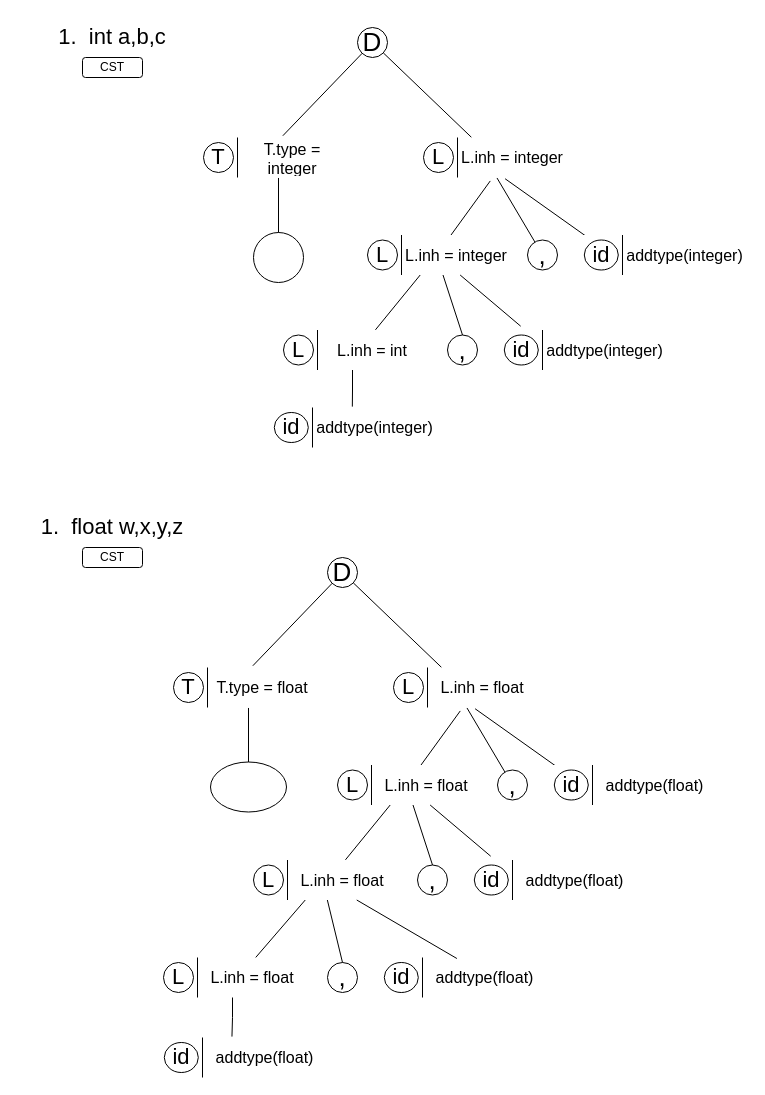
This 765x1095 diagram has some shape labels left out. Each missing label, with the box of its shape:
float: (210, 761, 286, 812)
int: (252, 232, 304, 282)
